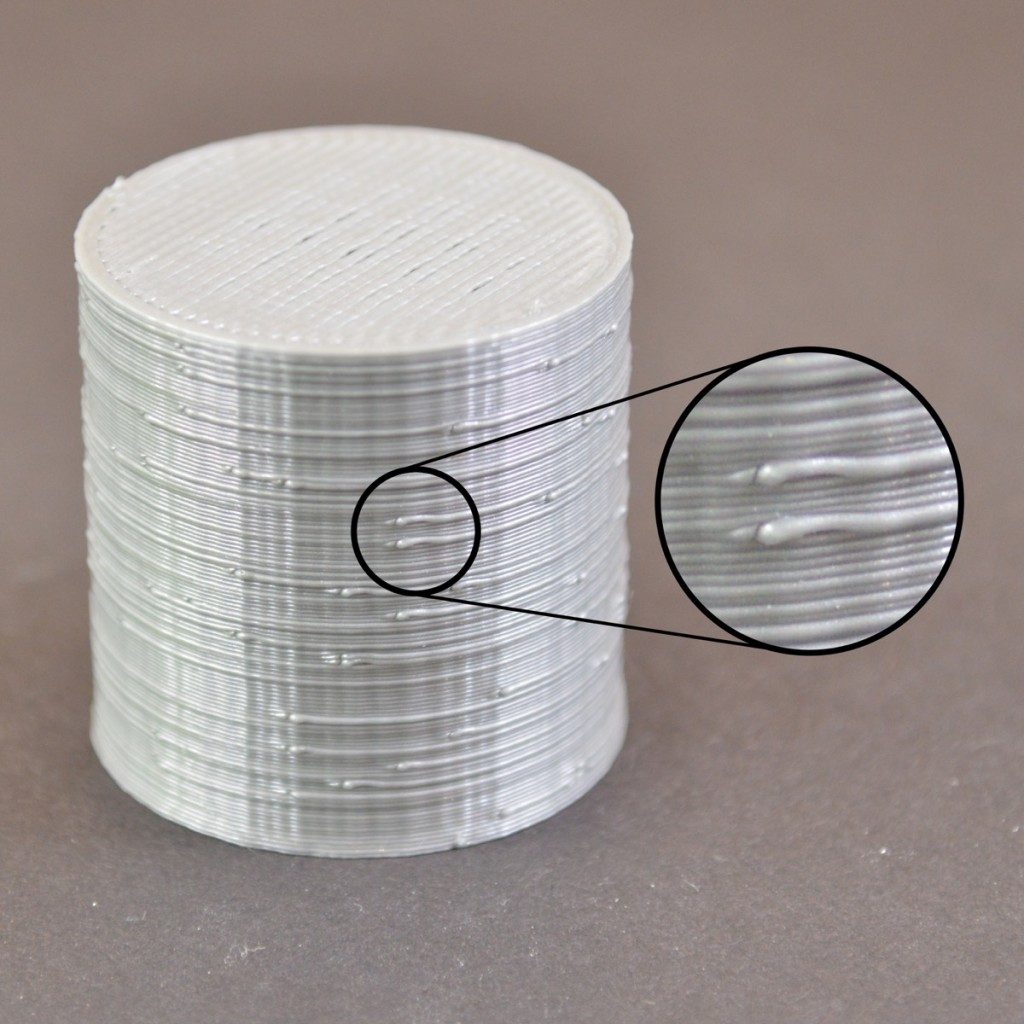blob: (723, 453, 800, 567), (218, 562, 265, 654), (378, 509, 445, 569), (217, 457, 303, 503), (255, 706, 314, 761), (301, 636, 358, 678), (311, 769, 381, 802), (529, 479, 575, 527), (537, 340, 576, 375), (470, 787, 500, 813), (491, 681, 515, 710), (598, 314, 618, 346)
